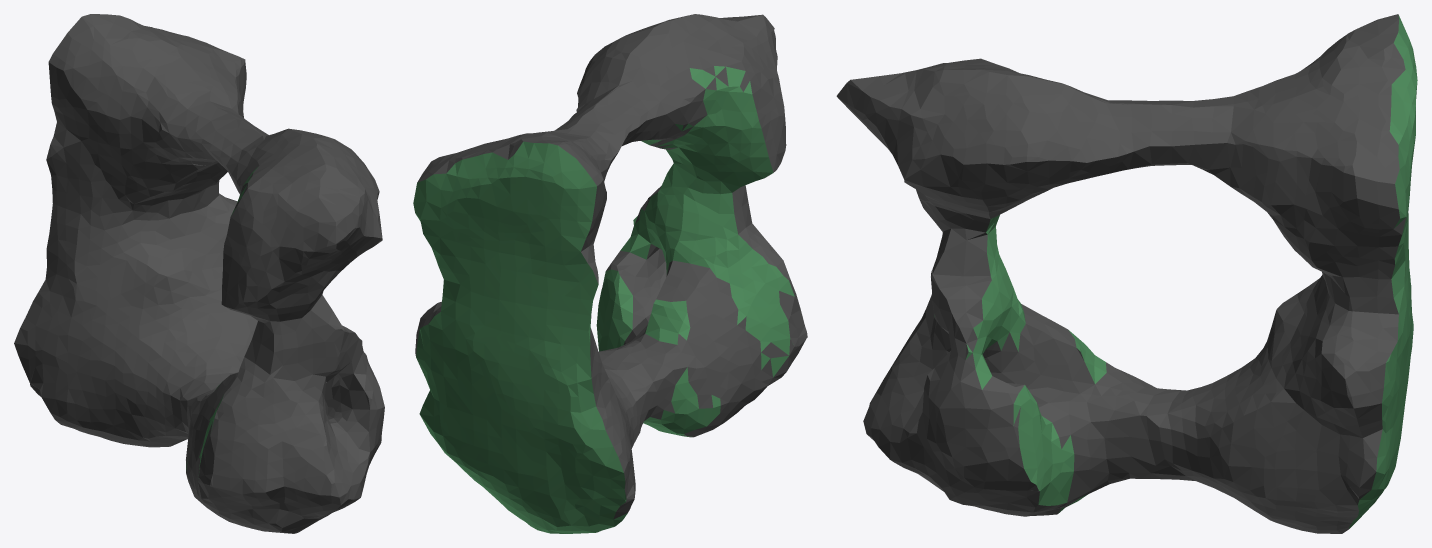
Rendered from Island Fragment 5.fbx.
The picture shows the model from 3 angles, left to right: view 1: azimuth 30°, elevation 25°; view 2: azimuth 150°, elevation 25°; view 3: azimuth 270°, elevation 25°; orthographic projection. The views are drawn at different scales.
Visible parts, largest first — view 1: Island Fragment 5; view 2: Island Fragment 5; view 3: Island Fragment 5.
Boxes of the visible parts, bbox=[...] form: Island Fragment 5: bbox=[14, 14, 384, 533]; Island Fragment 5: bbox=[413, 14, 807, 533]; Island Fragment 5: bbox=[836, 14, 1417, 533].
Size of the model in its own units: 1072 by 1840 by 1981.
